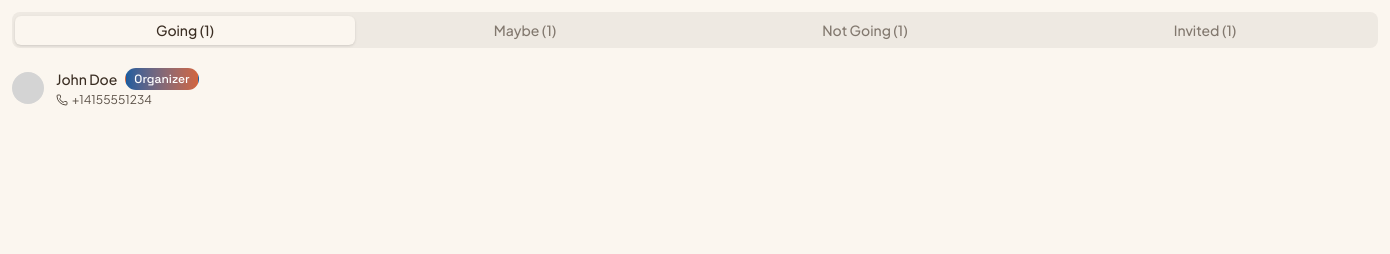
Scenario: MembersList › co-organizer role management › shows both role and remove actions in dropdown
The width and height of the screenshot is (1390, 254).
Click the tab "Maybe (1)" at [525, 30], box left=355, top=16, right=695, bottom=44
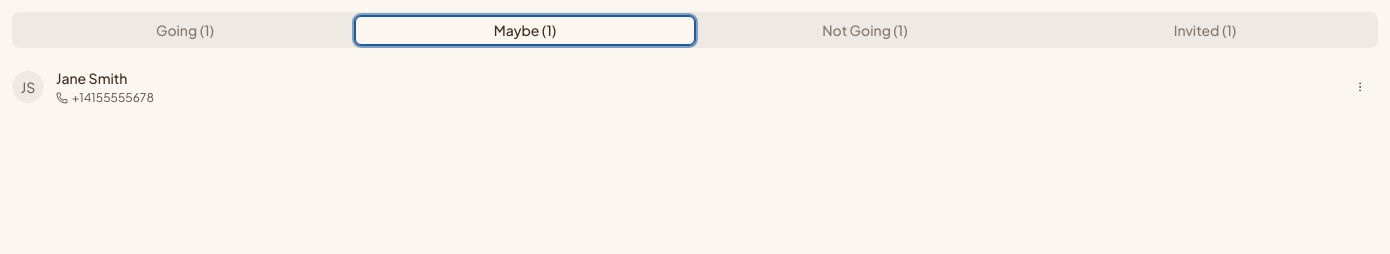
Click the button named "Actions for Jane Smith" at [1360, 87], box left=1342, top=69, right=1378, bottom=105
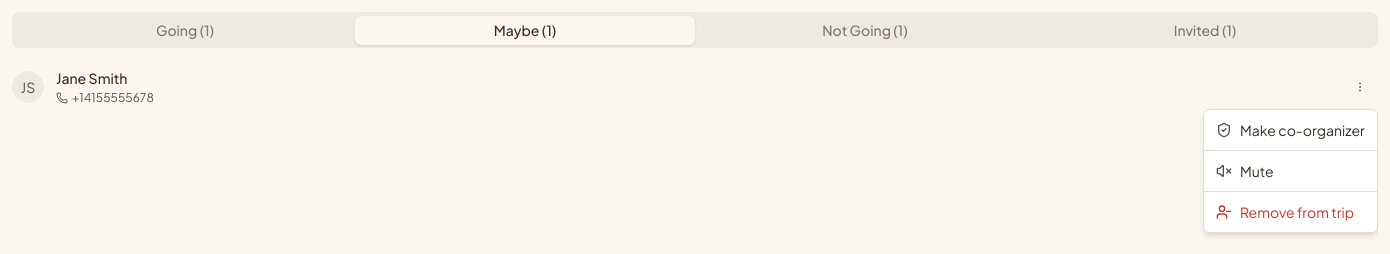
Expected: the menu item "Make co-organizer" is shown, left=1216, top=121, right=1365, bottom=139
Expected: the menu item "Remove from trip" is shown, left=1216, top=203, right=1354, bottom=221
